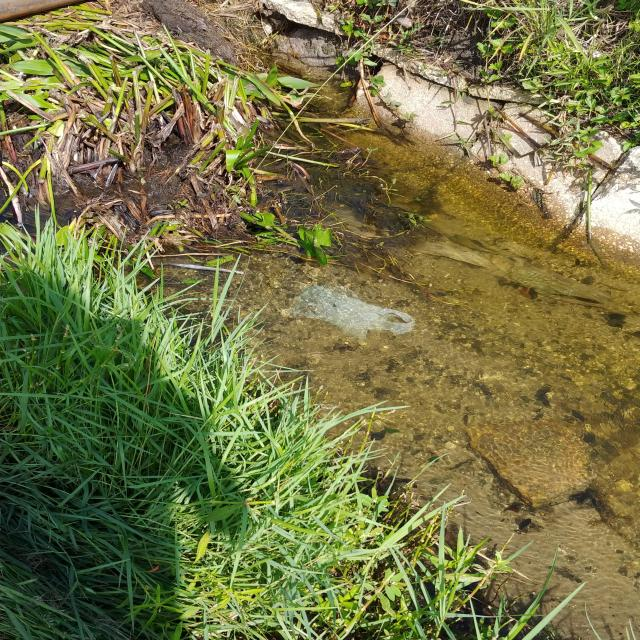litter: (276, 282, 425, 345)
